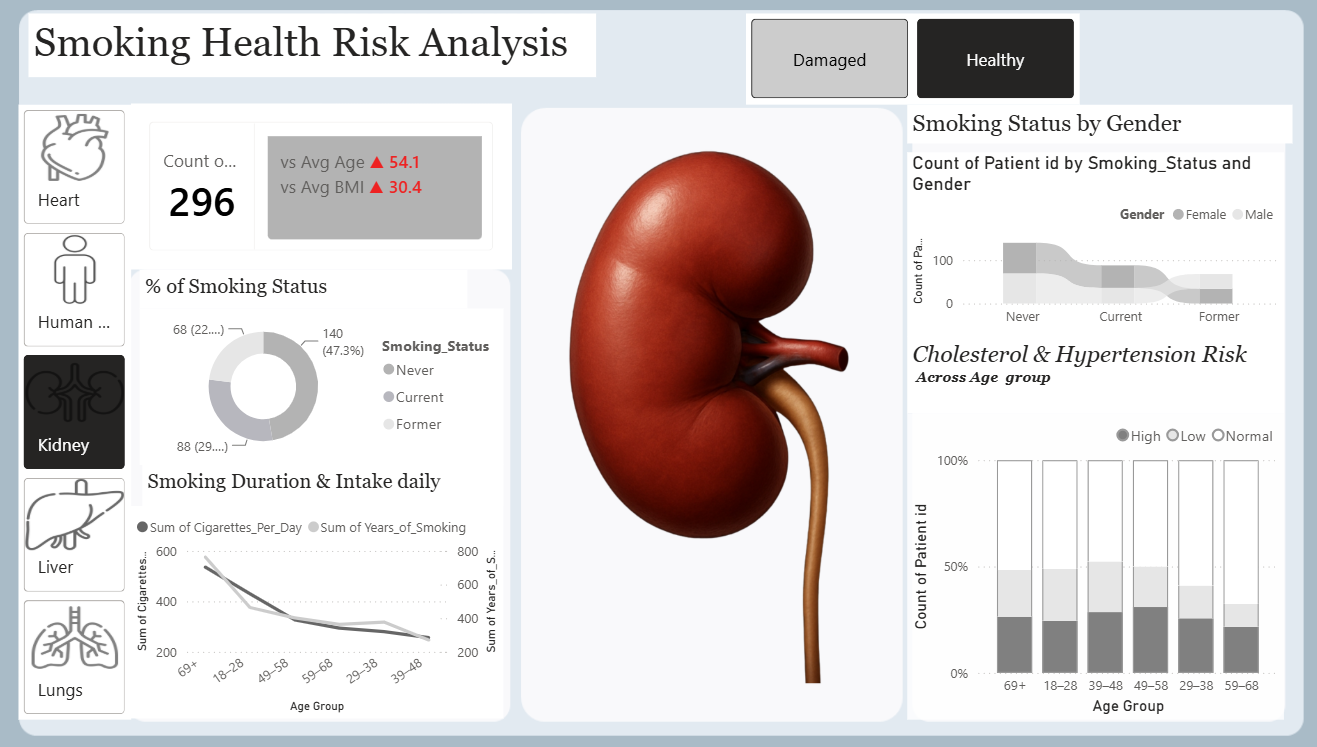

This screenshot's page, from the dashboard's own definition file:
{"tool":"powerbi","page":{"name":"Page 1","canvas":[1280,720],"ordinal":0},"visuals":[{"type":"textbox","box":[48.8,20.9,527.9,59.3],"z":0},{"type":"ribbonChart","fields":{"Category":["health_dataset.Smoking_Status"],"Y":["CountNonNull(health_dataset.Patient_ID)"],"Series":["health_dataset.Gender"]},"box":[866.3,150,350,170.9],"z":1000},{"type":"donutChart","fields":{"Y":["CountNonNull(health_dataset.Patient_ID)"],"Category":["health_dataset.Smoking_Status"]},"box":[152.3,295.3,338.4,145.3],"z":2000},{"type":"lineChart","fields":{"Y2":["Sum(health_dataset.Years_of_Smoking)"],"Y":["Sum(health_dataset.Cigarettes_Per_Day)"],"Category":["health_dataset.Age Group"]},"box":[144.2,479.1,346.5,197.7],"z":3000},{"type":"textbox","box":[152.5,258.8,305,36.2],"z":4000},{"type":"textbox","box":[866.3,105.8,358.1,36],"z":6000},{"type":"textbox","box":[866.3,320.9,350,72.1],"z":7000},{"type":"hundredPercentStackedColumnChart","fields":{"Category":["health_dataset.Age Group"],"Y":["CountNonNull(health_dataset.Patient_ID)"],"Series":["health_dataset.BP_Risk"]},"box":[866.2,392.5,350,285],"z":8000},{"type":"textbox","box":[154.7,440.7,336,38.4],"z":9000},{"type":"advancedSlicerVisual","fields":{"Values":["Organs.Organ"]},"box":[39.5,105.8,104.7,572.1],"z":10000},{"type":"image","box":[514,101.2,352.3,575.6],"z":11000},{"type":"cardVisual","fields":{"Data":["CountNonNull(health_dataset.Patient_ID)"]},"box":[144.4,104.4,354.4,154.4],"z":12000},{"type":"advancedSlicerVisual","fields":{"Values":["health_dataset.Organ_Condition"]},"box":[716.3,20.9,310.5,84.9],"z":13000}]}

Visuals, with their boxes in screenshot pixels (x1, y1, x2, y2), scaled from the page's 1280x720 canvas onto the 1317x747 screenshot:
textbox: <box>50,22,593,83</box>
ribbonChart - health_dataset.Smoking_Status x CountNonNull(health_dataset.Patient_ID): <box>891,156,1251,333</box>
donutChart - CountNonNull(health_dataset.Patient_ID) x health_dataset.Smoking_Status: <box>157,306,505,457</box>
lineChart - Sum(health_dataset.Years_of_Smoking) x Sum(health_dataset.Cigarettes_Per_Day): <box>148,497,505,702</box>
textbox: <box>157,269,471,306</box>
textbox: <box>891,110,1260,147</box>
textbox: <box>891,333,1251,408</box>
hundredPercentStackedColumnChart - health_dataset.Age Group x CountNonNull(health_dataset.Patient_ID): <box>891,407,1251,703</box>
textbox: <box>159,457,505,497</box>
advancedSlicerVisual - Organs.Organ: <box>41,110,148,703</box>
image: <box>529,105,891,702</box>
cardVisual - CountNonNull(health_dataset.Patient_ID): <box>149,108,513,269</box>
advancedSlicerVisual - health_dataset.Organ_Condition: <box>737,22,1056,110</box>
